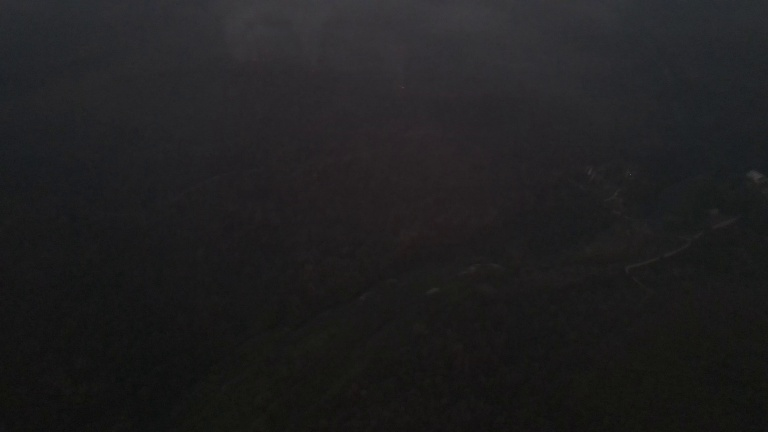fire: (399, 82, 411, 91)
smoke: (235, 1, 445, 72)
